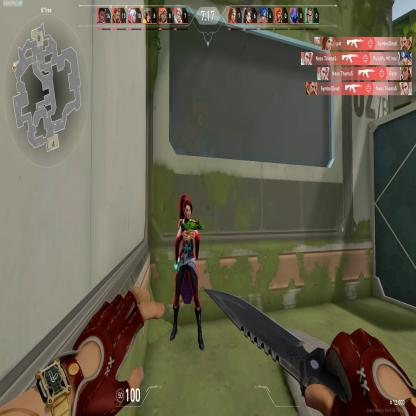enemy: (167, 185, 205, 355)
